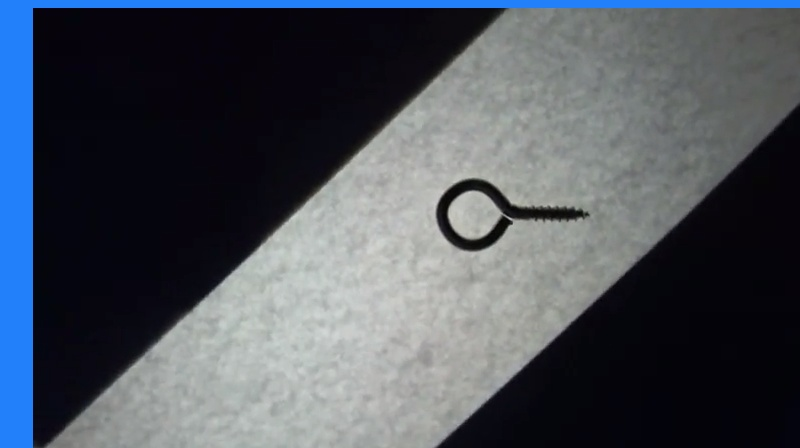O001: (429, 176, 593, 251)
